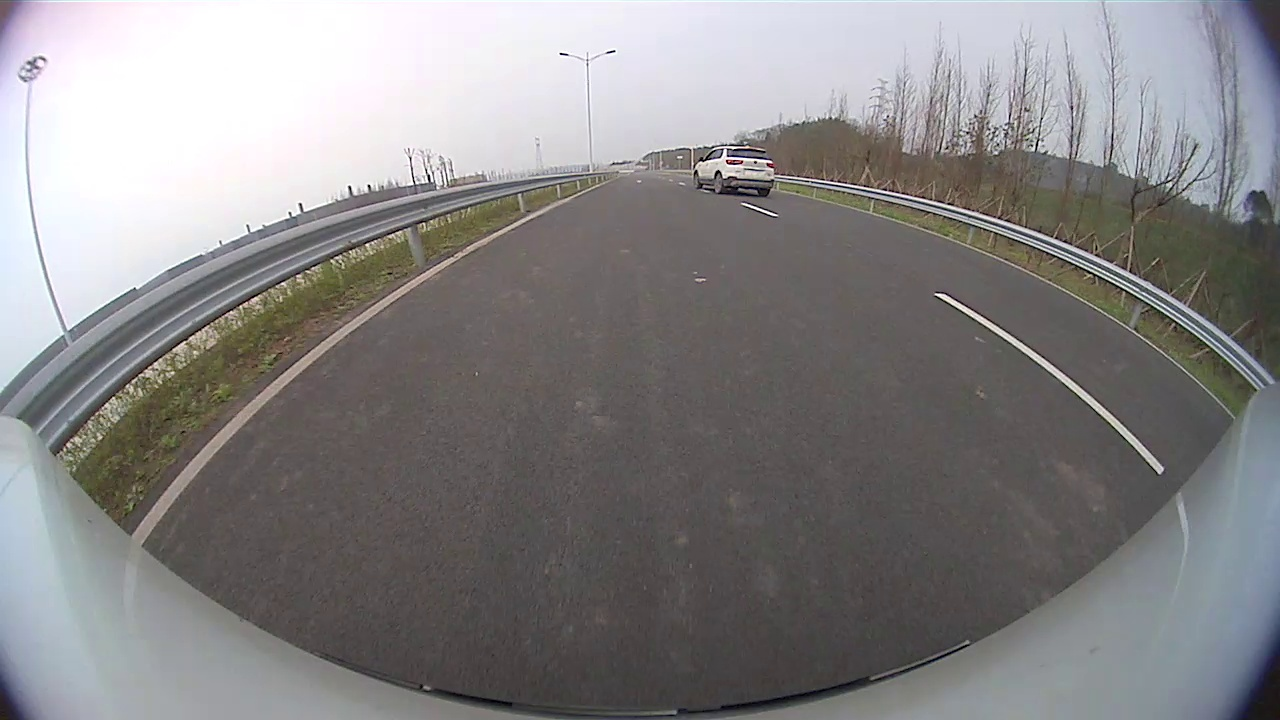car: (692, 145, 775, 196)
front: (693, 173, 700, 187)
rear: (712, 173, 724, 193)
